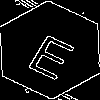E: (25, 25, 83, 82)
